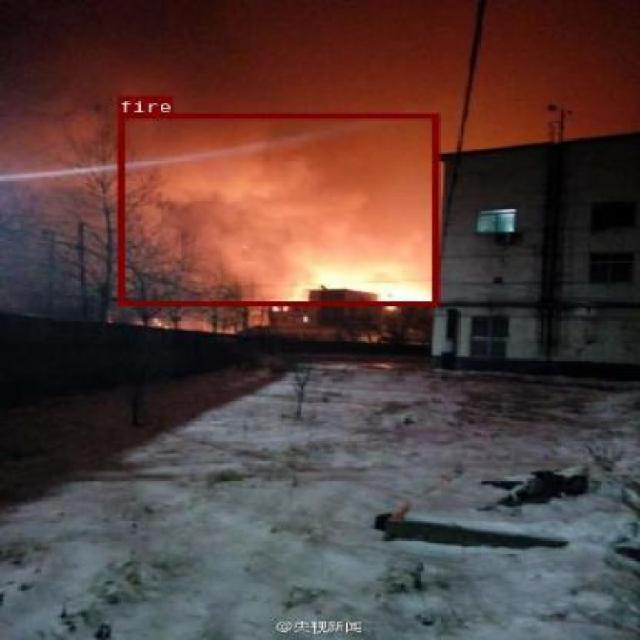fire: (117, 112, 437, 306)
